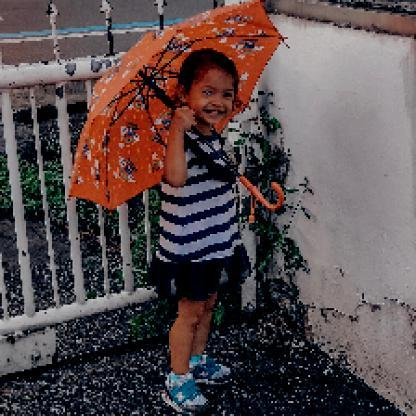child: (148, 49, 256, 415)
